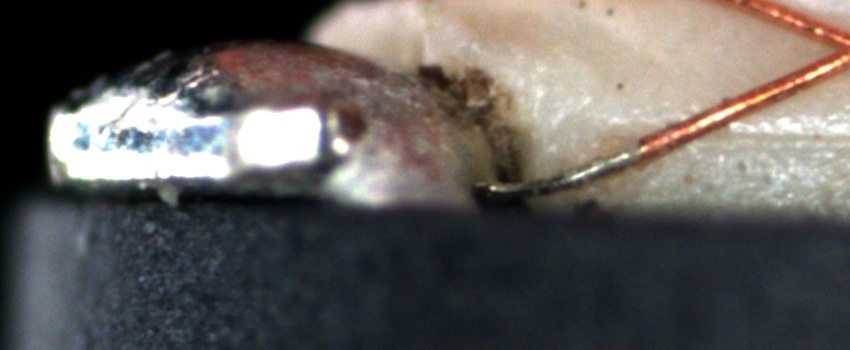CL: (802, 11, 850, 80)
DL: (733, 106, 849, 164)
TS: (490, 147, 645, 195)
TTCW: (489, 124, 685, 200)
